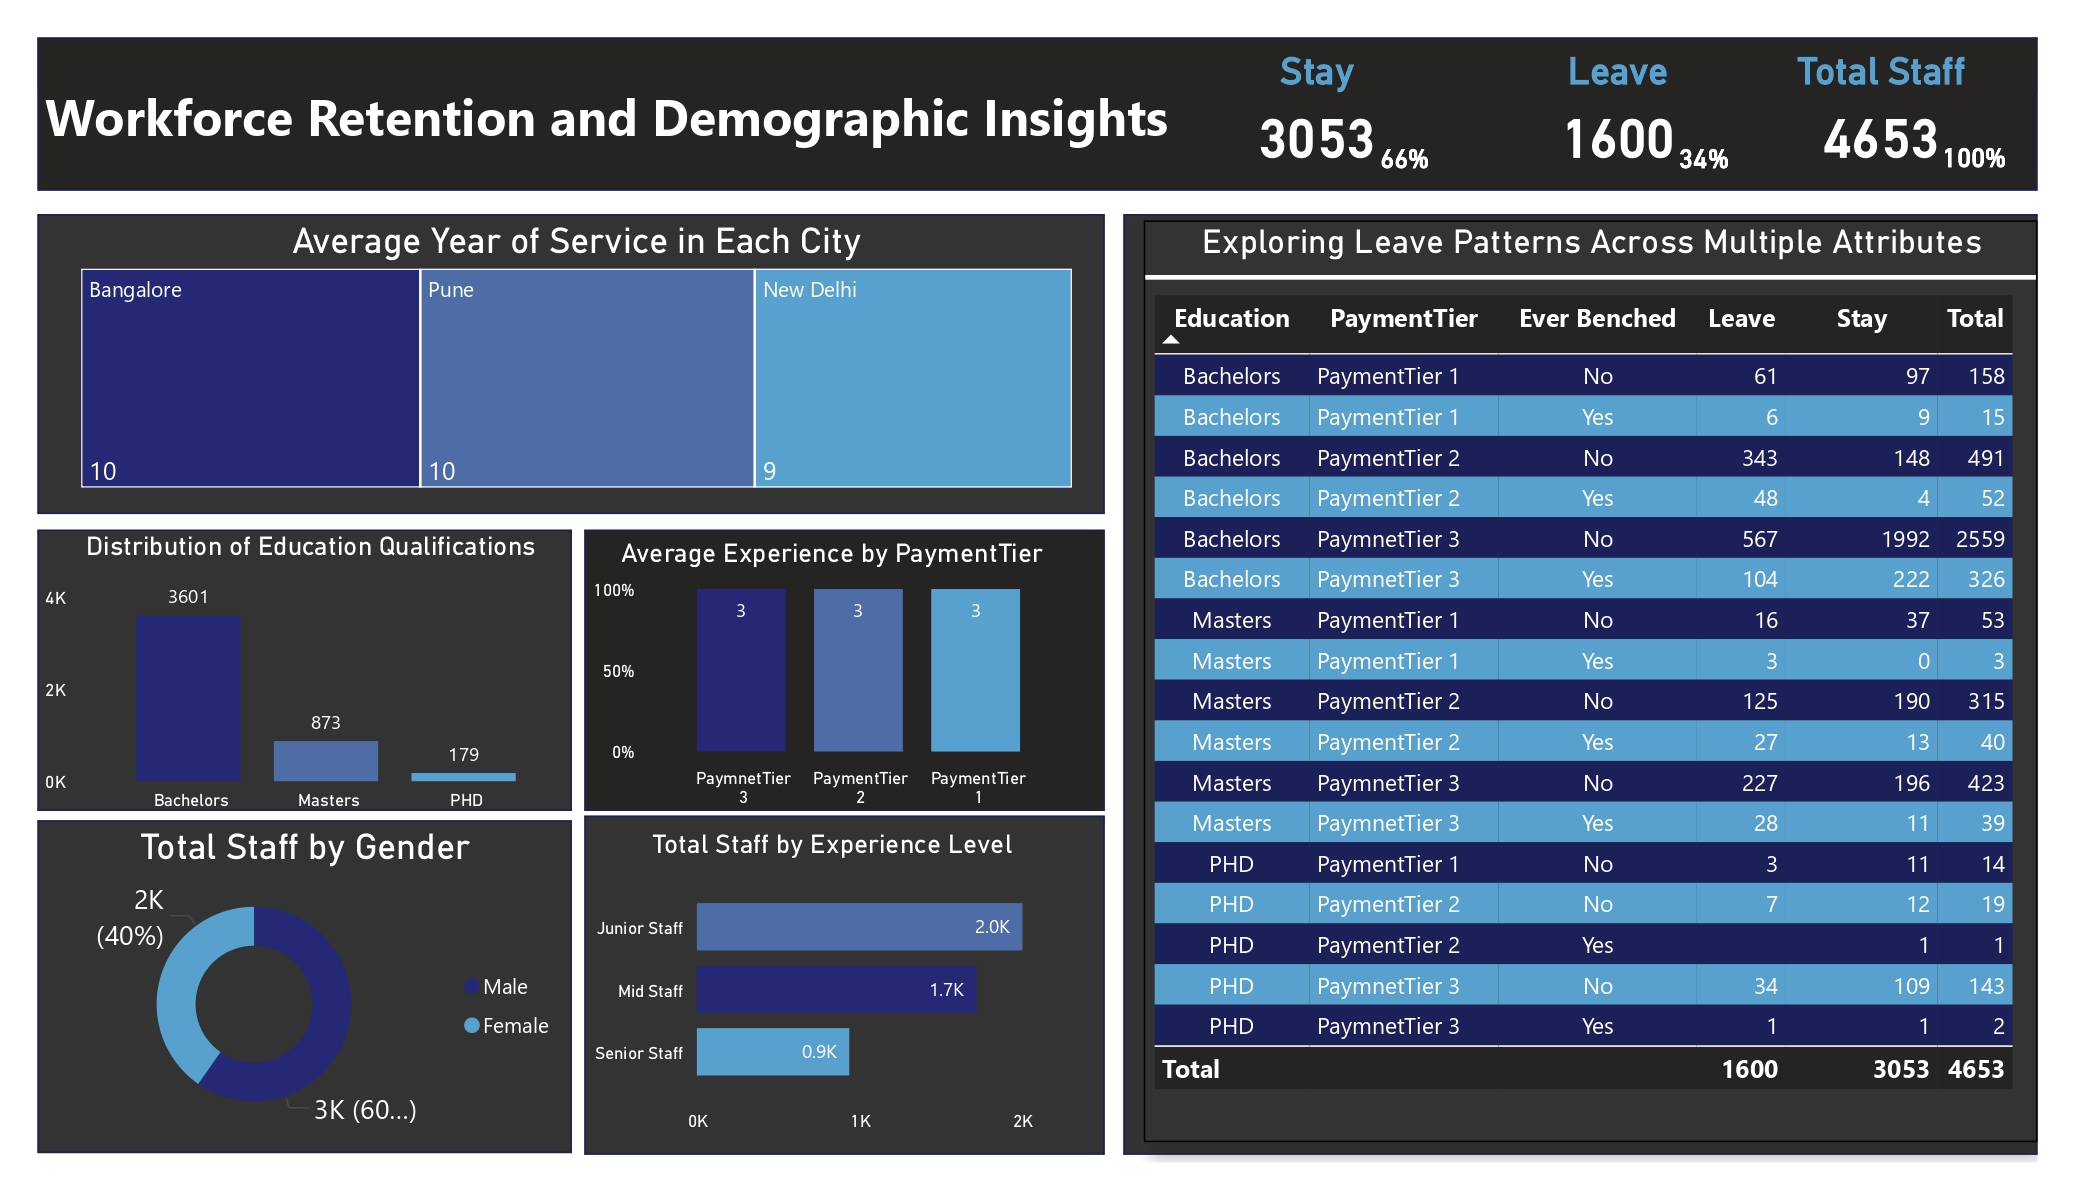

Layout of this report page (visuals, bound fields, positions):
{"tool":"powerbi","page":{"name":"Page 1","canvas":[1280,720],"ordinal":0},"visuals":[{"type":"shape","box":[695,113.3,585,601.7],"z":0},{"type":"shape","box":[0,501.3,342.1,213.2],"z":1000},{"type":"shape","box":[350,498.3,333.3,216.7],"z":2000},{"type":"shape","box":[350,315,333.3,180],"z":3000},{"type":"shape","box":[0,315,341.7,180],"z":4000},{"type":"shape","box":[0,113.3,683.3,191.7],"z":5000},{"type":"shape","box":[0,0,1280,98.3],"z":6000},{"type":"card","title":"Total Staff","fields":{"Values":["All Dax.Total Staff"]},"box":[1085,7.5,190,80],"z":7000},{"type":"columnChart","title":"Distribution of Education Qualifications","fields":{"Y":["All Dax.Total Staff"],"Category":["Employee.Education"],"Series":["Employee.Education"]},"box":[0,315,350,186.7],"z":8000},{"type":"treemap","title":"Average Year of Service in Each City","fields":{"Group":["Employee.City"],"Values":["Avg(Employee.Year_of_service)"]},"box":[23.3,116.7,643.3,176.7],"z":9000},{"type":"hundredPercentStackedColumnChart","title":"Average Experience by PaymentTier","fields":{"Category":["Employee.PaymentTier (groups)"],"Y":["Avg(Employee.ExperienceInCurrentDomain)"]},"box":[350,320,316.7,180],"z":10000},{"type":"donutChart","fields":{"Category":["Employee.Gender"],"Y":["All Dax.Total Staff"]},"box":[0,505.3,342.1,201.3],"z":11000},{"type":"card","title":"Leave","fields":{"Values":["All Dax.leave"]},"box":[910,7.5,202.5,80],"z":12000},{"type":"card","title":"Stay","fields":{"Values":["All Dax.Not Leave"]},"box":[720,7.5,197.5,80],"z":13000},{"type":"card","fields":{"Values":["All Dax.%leave"]},"box":[1032.5,47.5,67.5,60],"z":14000},{"type":"card","fields":{"Values":["All Dax.%Not leave"]},"box":[841.2,47.5,67.5,60],"z":15000},{"type":"card","fields":{"Values":["All Dax.% total staff"]},"box":[1198.8,48.8,81.2,57.5],"z":16000},{"type":"tableEx","title":"Exploring Leave Patterns Across Multiple Attributes","fields":{"Values":["Employee.Education","Employee.PaymentTier (groups)","Employee.EverBenched","All Dax.leave","All Dax.Not Leave","CountNonNull(Employee.LeaveOrNot)"]},"box":[708.3,116.7,571.7,590],"z":17000},{"type":"barChart","title":"Total Staff by Experience Level","fields":{"Category":["Employee.ExperienceLevel"],"Y":["All Dax.Total Staff"]},"box":[350,505.7,317.1,201.4],"z":18000},{"type":"textbox","box":[0,22.5,747.5,90],"z":19000}]}

Visuals, with their boxes in screenshot pixels (x1, y1, x2, y2):
shape: (x1=1123, y1=215, x2=2038, y2=1155)
shape: (x1=38, y1=821, x2=572, y2=1154)
shape: (x1=584, y1=816, x2=1105, y2=1155)
shape: (x1=584, y1=530, x2=1105, y2=811)
shape: (x1=38, y1=530, x2=571, y2=811)
shape: (x1=38, y1=215, x2=1105, y2=514)
shape: (x1=38, y1=38, x2=2038, y2=191)
"Total Staff" card: (x1=1733, y1=49, x2=2030, y2=174)
"Distribution of Education Qualifications" columnChart: (x1=38, y1=530, x2=584, y2=821)
"Average Year of Service in Each City" treemap: (x1=74, y1=220, x2=1079, y2=496)
"Average Experience by PaymentTier" hundredPercentStackedColumnChart: (x1=584, y1=538, x2=1079, y2=819)
donutChart - Employee.Gender x All Dax.Total Staff: (x1=38, y1=827, x2=572, y2=1142)
"Leave" card: (x1=1459, y1=49, x2=1776, y2=174)
"Stay" card: (x1=1162, y1=49, x2=1471, y2=174)
card - All Dax.%leave: (x1=1651, y1=112, x2=1756, y2=205)
card - All Dax.%Not leave: (x1=1352, y1=112, x2=1457, y2=205)
card - All Dax.% total staff: (x1=1911, y1=114, x2=2038, y2=204)
"Exploring Leave Patterns Across Multiple Attributes" tableEx: (x1=1144, y1=220, x2=2038, y2=1142)
"Total Staff by Experience Level" barChart: (x1=584, y1=828, x2=1080, y2=1142)
textbox: (x1=38, y1=73, x2=1205, y2=213)
